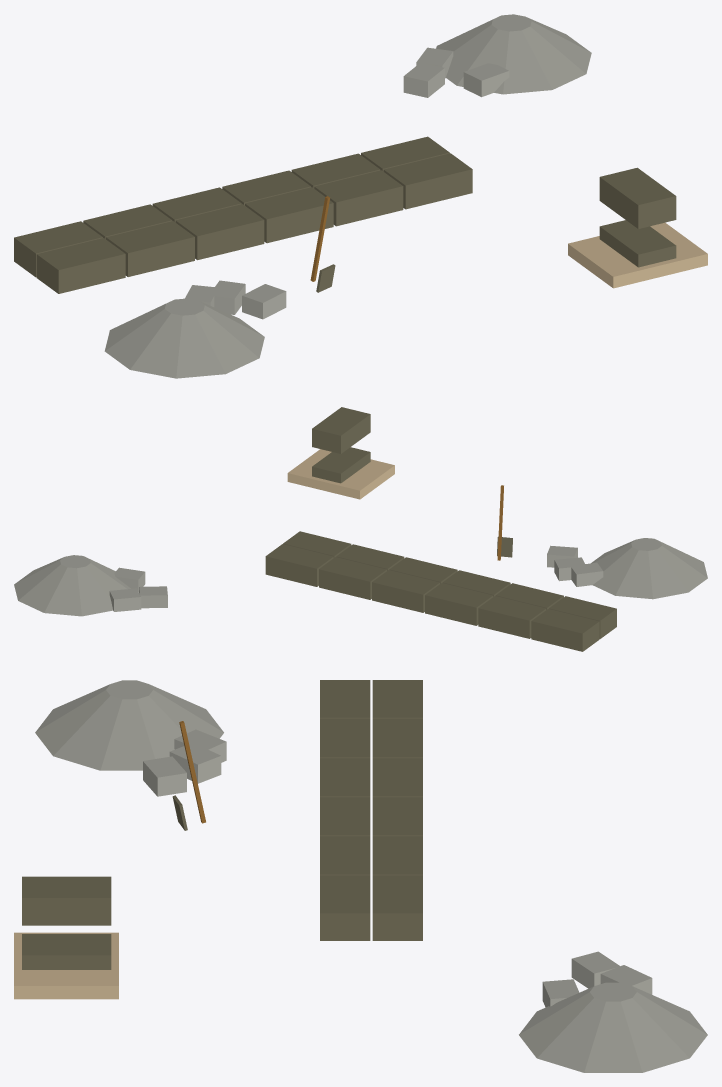
File: SM_ObraReconstruccion_v4_8m_LOD0.fbx
3 views of the same model, one above another, from view 1: azimuth 30°, elevation 25°; view 2: azimuth 150°, elevation 25°; view 3: azimuth 270°, elevation 25° (orthographic). The views are drawn at different scales.
Visible parts, largest first — view 1: SM_obra_curso_v48_LOD0; view 2: SM_obra_curso_v48_LOD0; view 3: SM_obra_curso_v48_LOD0.
Boxes of the visible parts, x1,y1,x2,y2 form: SM_obra_curso_v48_LOD0: (14,14,707,378); SM_obra_curso_v48_LOD0: (14,407,707,651); SM_obra_curso_v48_LOD0: (14,680,707,1072).
Size of the model in its own units: 8.51 by 1.11 by 6.6.
